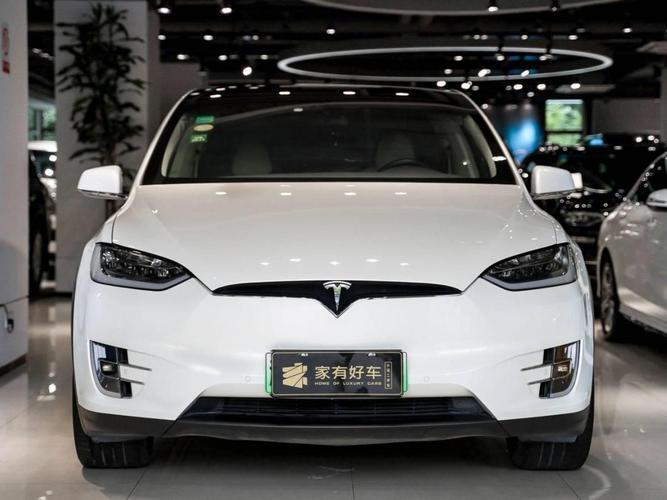Tesla: (322, 280, 352, 313)
